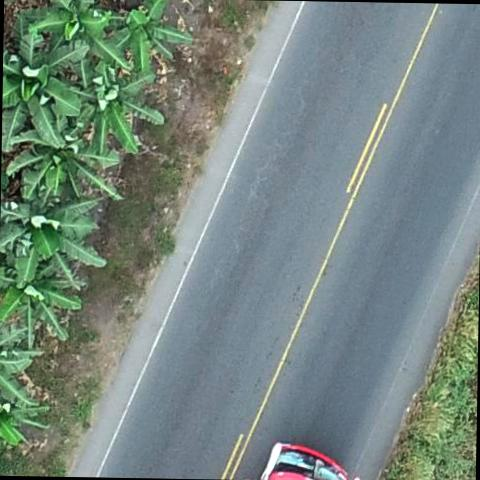Banana-plant: (0, 194, 108, 286), (9, 125, 122, 210), (2, 33, 85, 146), (72, 60, 162, 158), (0, 261, 81, 352), (104, 1, 187, 72), (32, 0, 117, 63)
